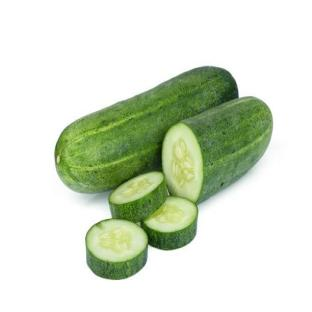Cucumber: (55, 67, 238, 192), (163, 97, 272, 202), (86, 219, 147, 279), (142, 197, 197, 250), (109, 172, 167, 222)
